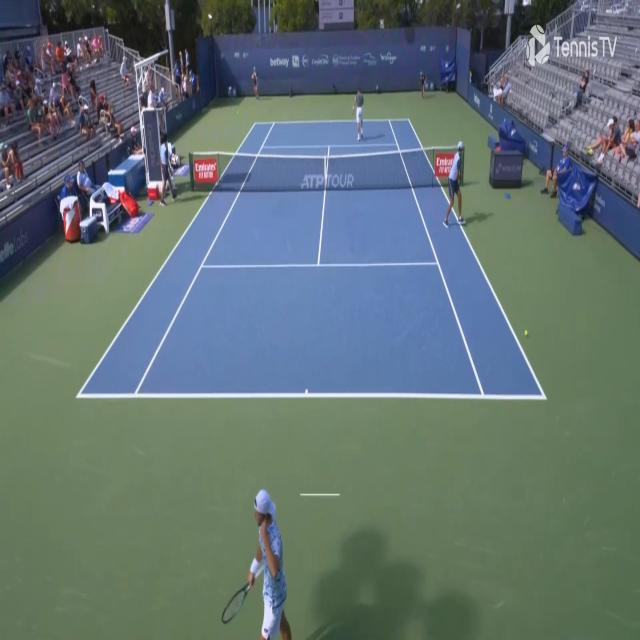tennis-player: (219, 481, 294, 638), (351, 84, 366, 144)
